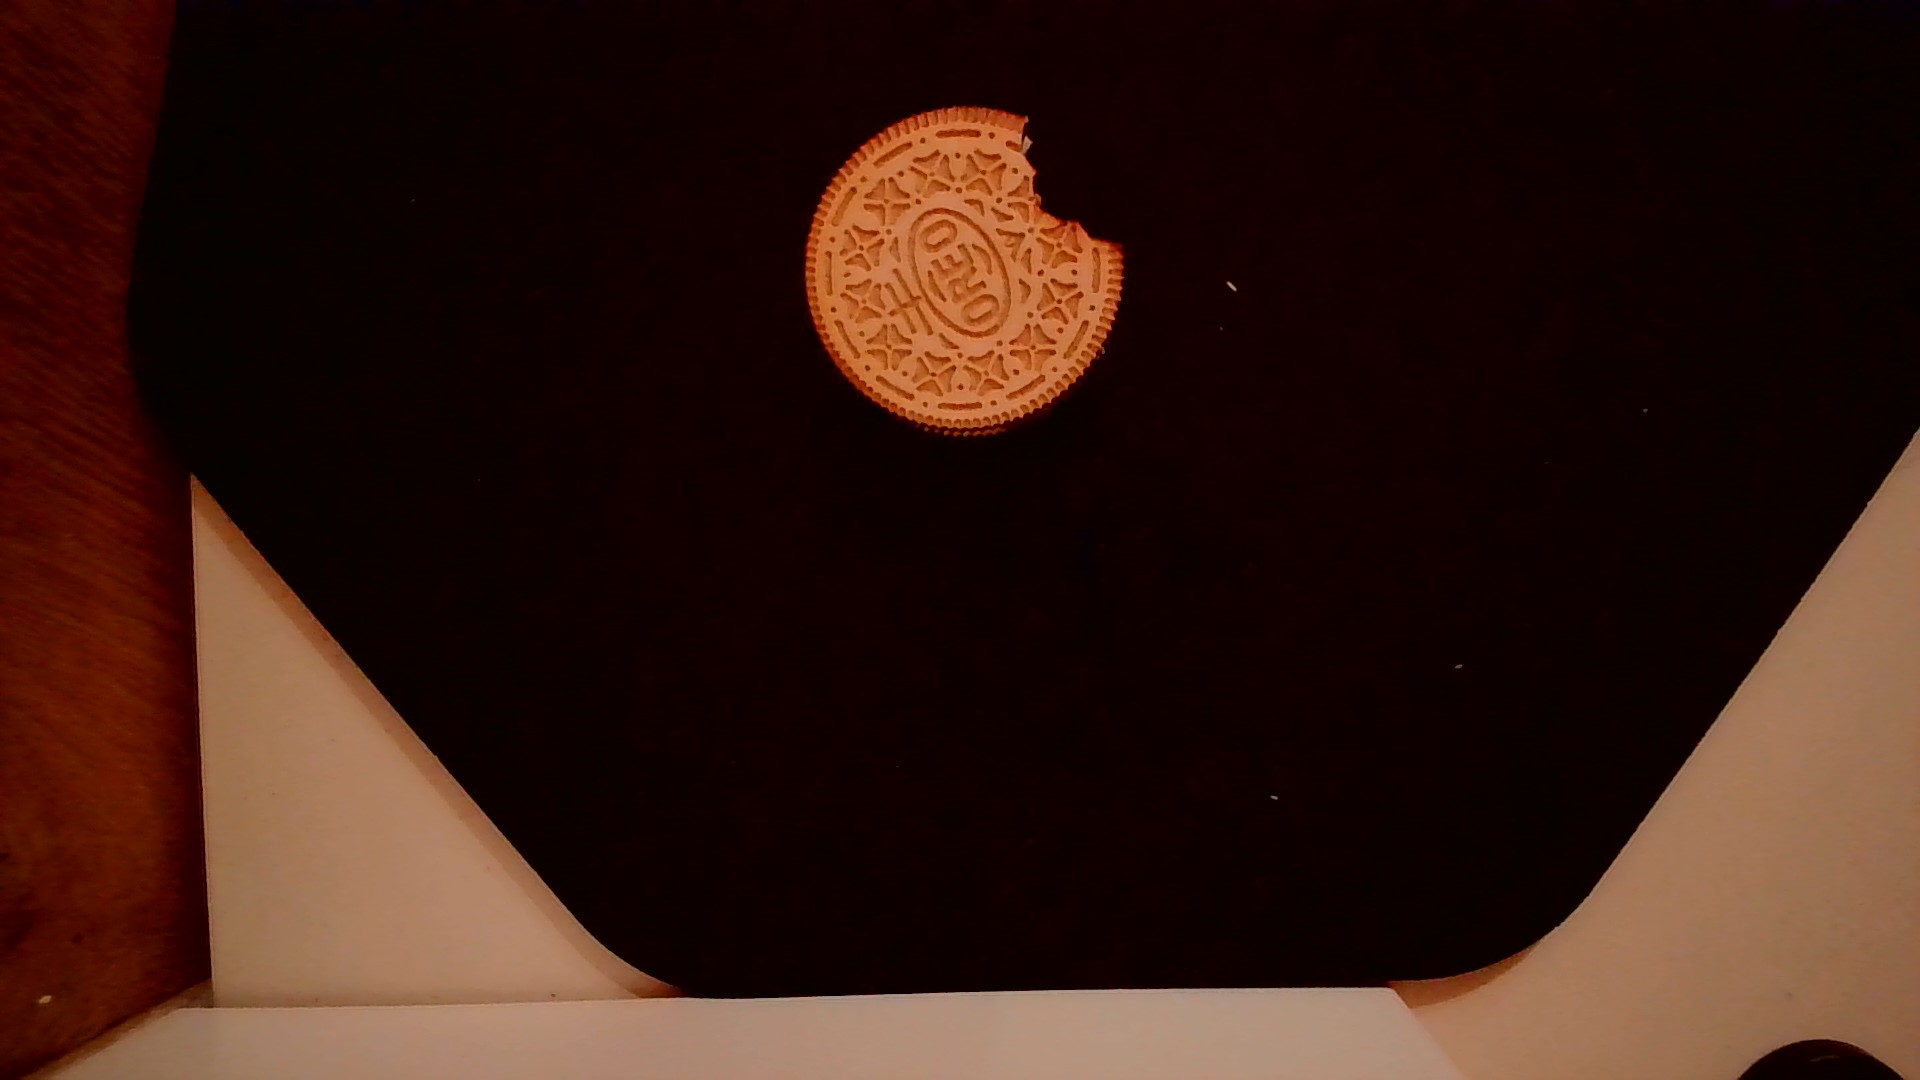Mangé: (1009, 100, 1149, 262)
Oréo: (794, 102, 1134, 440)
